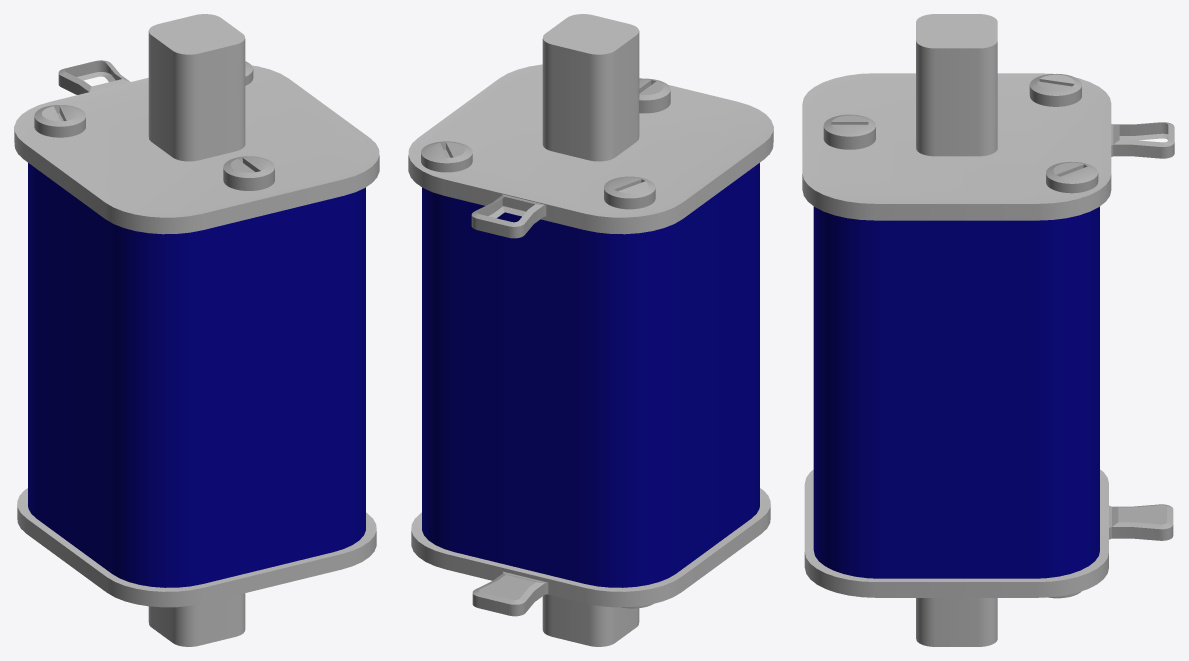
Rendered from BlueFuse.fbx.
3 views of the same model, side by side, from view 1: azimuth 30°, elevation 25°; view 2: azimuth 150°, elevation 25°; view 3: azimuth 270°, elevation 25° (orthographic).
Parts seen in each view (by area): view 1: Fuse; view 2: Fuse; view 3: Fuse.
Boxes of the visible parts, x1,y1,x2,y2 form: Fuse: [14, 14, 379, 646]; Fuse: [408, 14, 773, 646]; Fuse: [802, 14, 1174, 646].
Size of the model in its own units: 97.54 by 208 by 117.
